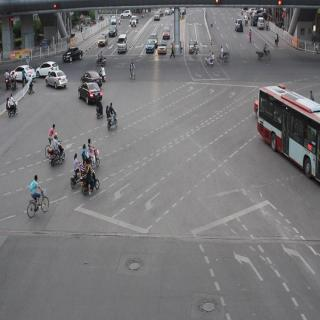BigCar: (256, 77, 320, 180)
Car: (75, 73, 99, 111), (42, 68, 76, 88), (62, 42, 84, 67), (8, 60, 36, 79), (33, 58, 61, 76), (112, 32, 136, 53), (82, 64, 102, 84), (143, 32, 156, 52), (156, 43, 169, 60), (148, 25, 158, 46), (163, 24, 175, 35)
